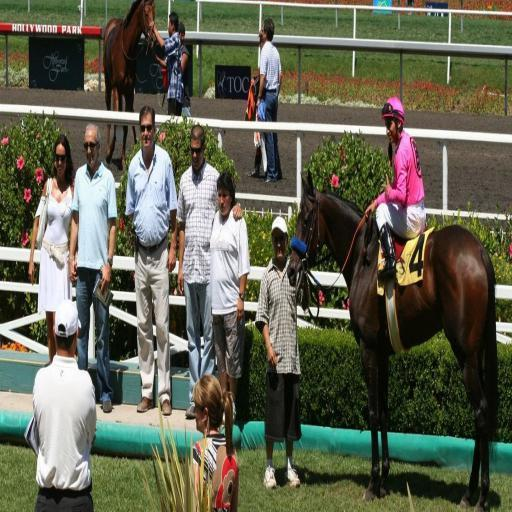horse: (286, 168, 500, 512)
